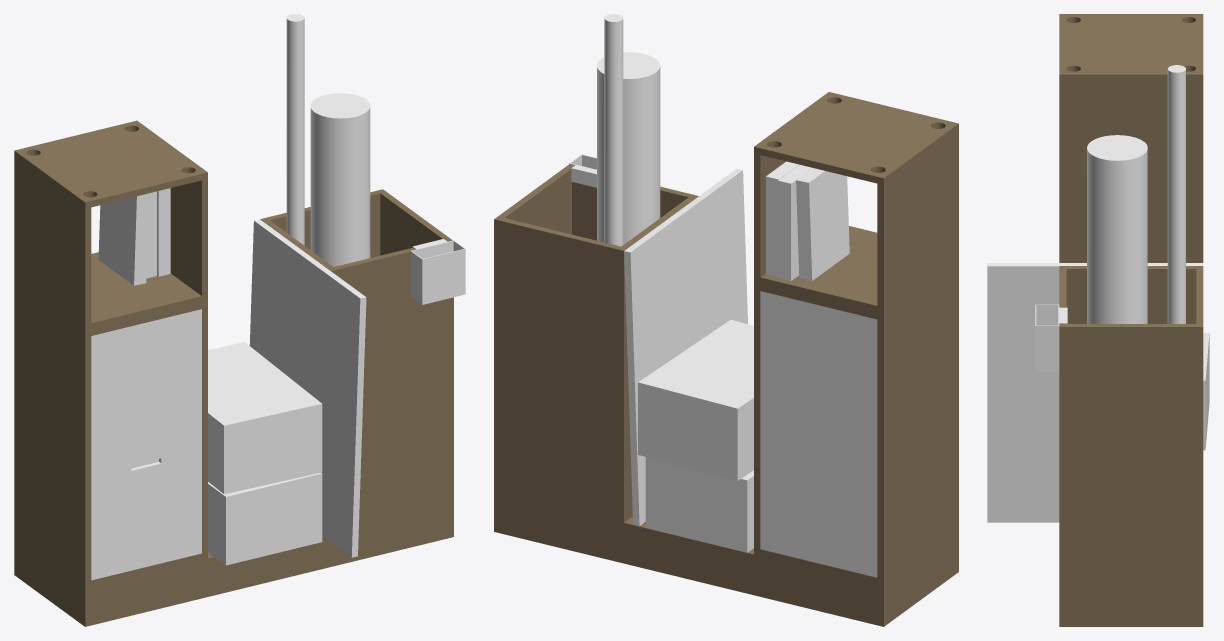
The model's file is example3.glb.
The picture shows the model from 3 angles, left to right: view 1: azimuth 30°, elevation 25°; view 2: azimuth 150°, elevation 25°; view 3: azimuth 270°, elevation 25°; orthographic projection. The views are drawn at different scales.
Parts seen in each view (by area): view 1: example3005, example3002, example3004, example3012, example3003, example3013, example3007, example3001, example3011, example3008, example3010, example3009 (+5 smaller); view 2: example3002, example3005, example3004, example3003, example3012, example3007, example3013, example3001, example3011, example3008, example3009, example3010 (+5 smaller); view 3: example3002, example3005, example3012, example3001, example3003, example3, example3004, example3014, example3013.
Boxes of the visible parts, left/top/right/bottom form: example3005: left=14, top=120, right=207, bottom=330; example3002: left=260, top=189, right=453, bottom=521; example3004: left=14, top=279, right=207, bottom=588; example3012: left=249, top=219, right=366, bottom=557; example3003: left=14, top=498, right=453, bottom=626; example3013: left=208, top=342, right=322, bottom=494; example3007: left=91, top=437, right=201, bottom=580; example3001: left=310, top=93, right=370, bottom=266; example3011: left=208, top=472, right=322, bottom=565; example3008: left=91, top=309, right=201, bottom=378; example3010: left=91, top=395, right=201, bottom=464; example3009: left=91, top=352, right=201, bottom=421; example3002: left=494, top=164, right=698, bottom=522; example3005: left=754, top=92, right=958, bottom=314; example3004: left=754, top=259, right=958, bottom=585; example3003: left=494, top=491, right=958, bottom=626; example3012: left=624, top=169, right=747, bottom=526; example3007: left=760, top=427, right=877, bottom=577; example3013: left=638, top=320, right=753, bottom=480; example3001: left=597, top=52, right=660, bottom=244; example3011: left=645, top=457, right=753, bottom=552; example3008: left=760, top=291, right=877, bottom=364; example3009: left=760, top=336, right=877, bottom=409; example3010: left=760, top=381, right=877, bottom=455; example3002: left=1059, top=266, right=1203, bottom=587; example3005: left=1059, top=14, right=1203, bottom=205; example3012: left=987, top=263, right=1203, bottom=522; example3001: left=1087, top=135, right=1147, bottom=323; example3003: left=1059, top=588, right=1203, bottom=626; example3: left=1167, top=65, right=1185, bottom=323; example3004: left=1059, top=205, right=1203, bottom=262; example3014: left=1035, top=304, right=1067, bottom=372; example3013: left=1203, top=333, right=1209, bottom=450.
Bounding box in the file's own units: 0.9 × 1.19 × 0.4629.
